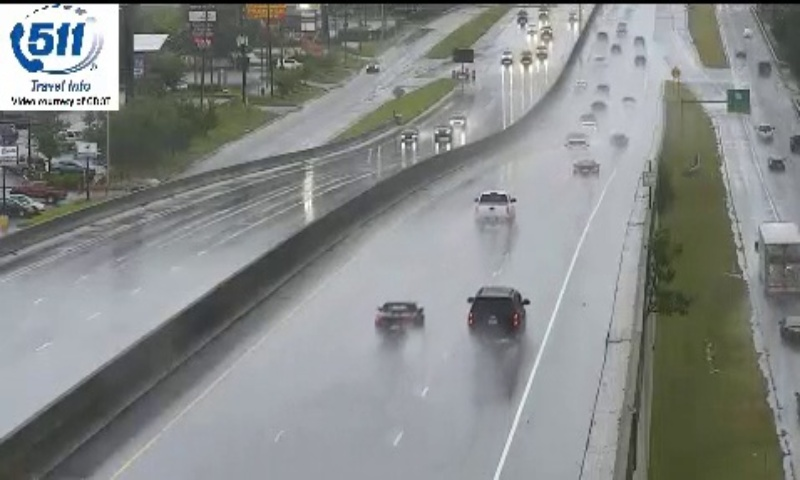car: (467, 286, 525, 339), (376, 301, 423, 339), (475, 190, 513, 222)
